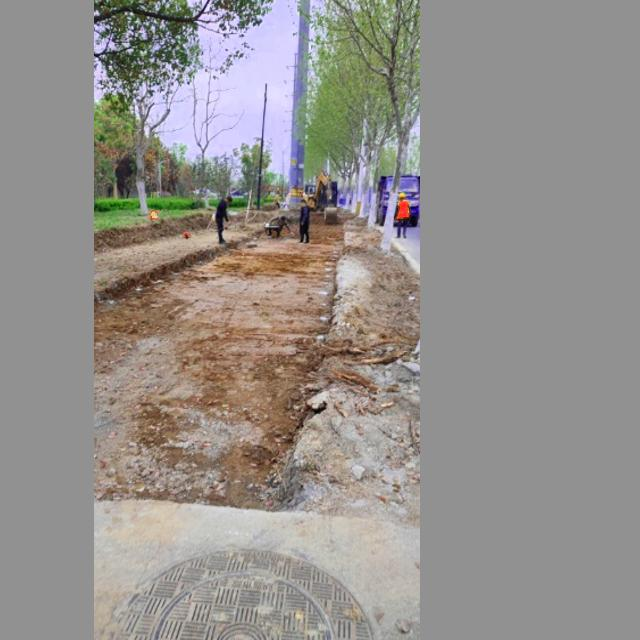good: (103, 538, 391, 640)
